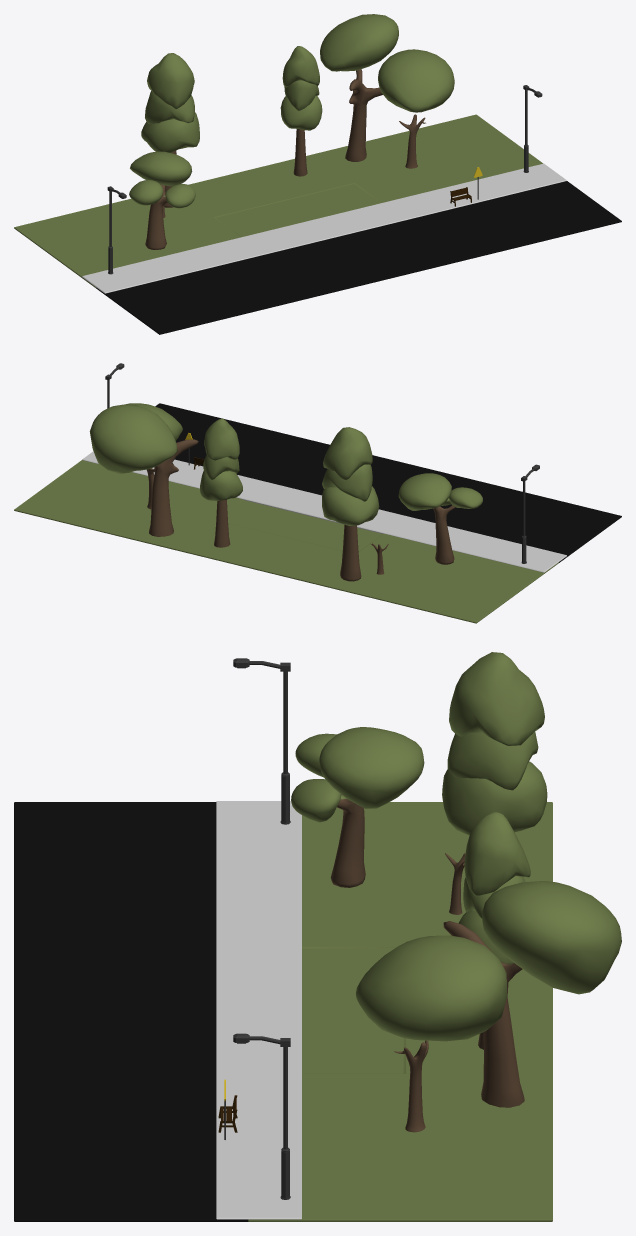
The model's file is StreetEnvironment2.fbx.
The picture shows the model from 3 angles, top to bottom: view 1: azimuth 30°, elevation 25°; view 2: azimuth 150°, elevation 25°; view 3: azimuth 270°, elevation 25°; orthographic projection. The views are drawn at different scales.
Parts seen in each view (by area): view 1: pCube62; view 2: pCube62; view 3: pCube62.
Boxes of the visible parts, x1=… form: pCube62: x1=14, y1=14, x2=621, y2=334; pCube62: x1=14, y1=363, x2=621, y2=623; pCube62: x1=14, y1=652, x2=621, y2=1221.
Bounding box in the file's own units: 1991 × 634 × 1225.
